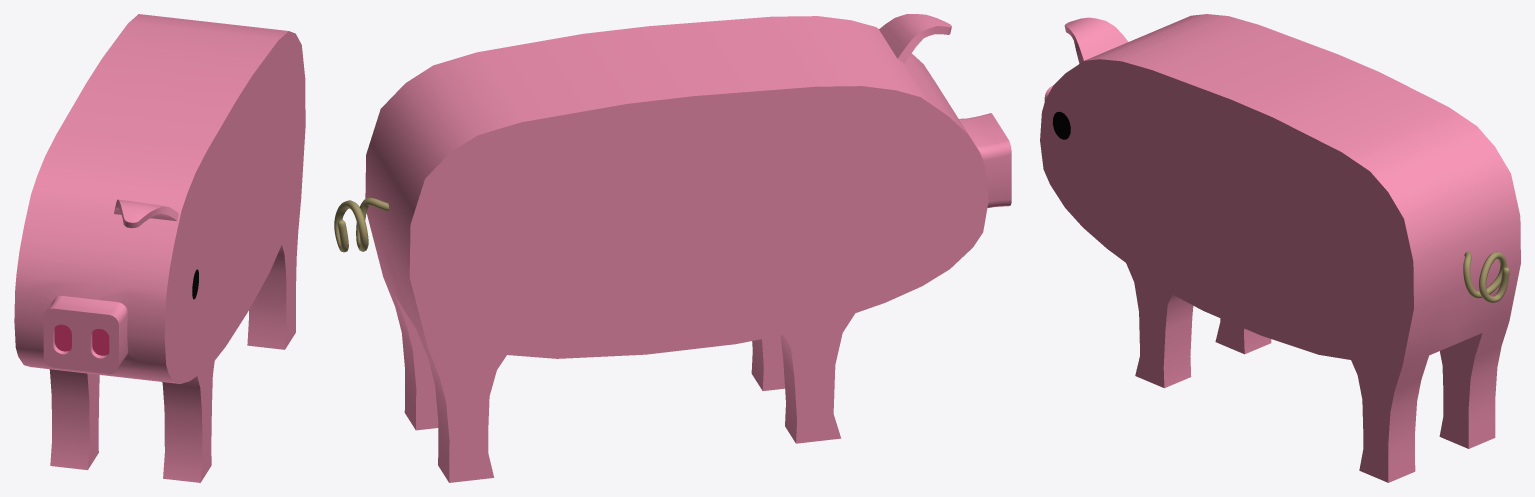
The model's file is pig.glb.
3 views of the same model, side by side, from view 1: azimuth 30°, elevation 25°; view 2: azimuth 150°, elevation 25°; view 3: azimuth 270°, elevation 25° (orthographic). The views are drawn at different scales.
Parts seen in each view (by area): view 1: Plane.121, Cube.6232; view 2: Plane.121, Cube.6232, Plane.122; view 3: Plane.121, Cube.6232, Plane.122.
Part boxes in pixels (<box>): Plane.121: <box>14,14,305,482</box>; Cube.6232: <box>114,199,178,228</box>; Plane.121: <box>365,16,1011,482</box>; Cube.6232: <box>879,14,951,63</box>; Plane.122: <box>334,197,389,252</box>; Plane.121: <box>1040,14,1520,482</box>; Cube.6232: <box>1064,17,1128,63</box>; Plane.122: <box>1463,251,1509,302</box>.
Bounding box in the file's own units: 2.21 × 1.61 × 2.21.
1 material, 1 textured.
